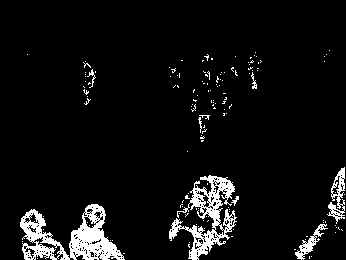person: (69, 200, 129, 259), (18, 207, 70, 260), (188, 69, 215, 144), (79, 58, 97, 105), (247, 49, 263, 90)
